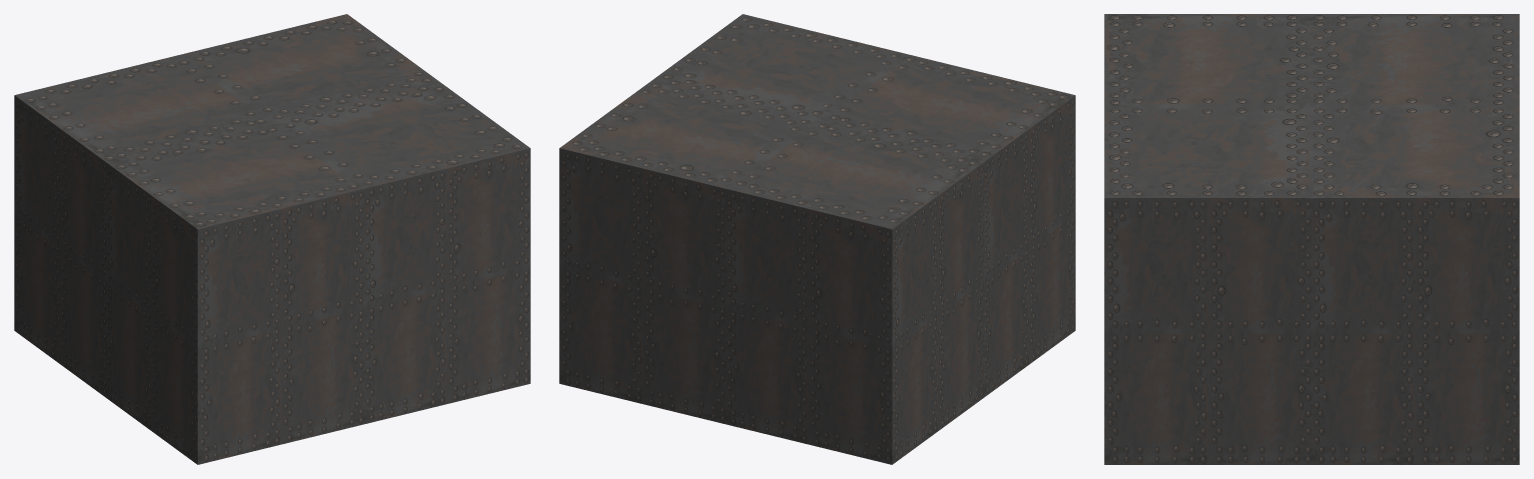
File: factory_baseplate.fbx
The picture shows the model from 3 angles, left to right: view 1: azimuth 30°, elevation 25°; view 2: azimuth 150°, elevation 25°; view 3: azimuth 270°, elevation 25°; orthographic projection. The views are drawn at different scales.
Visible parts, largest first — view 1: Baseplate; view 2: Baseplate; view 3: Baseplate.
Part boxes in pixels (box(x1,y1,x2,y2)): Baseplate: box(14, 14, 530, 464); Baseplate: box(559, 14, 1075, 464); Baseplate: box(1104, 14, 1519, 464).
Bounding box in the file's own units: 4986 × 3374 × 4757.
